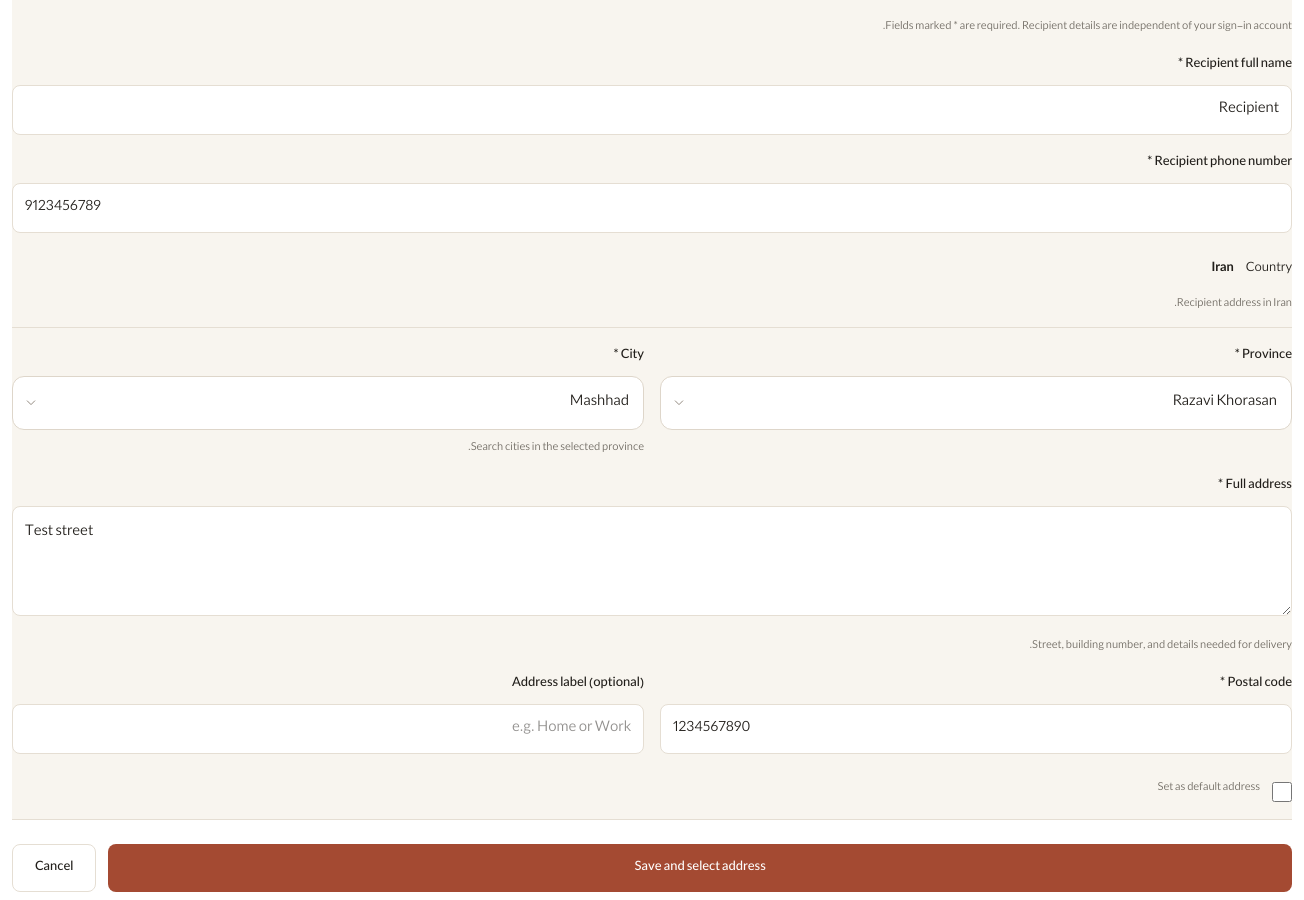
Test: backend regions populate searchable dependent dropdowns
(page scrolled)
Expected: the dropdown labelled "Province" holds "Razavi Khorasan", [697,376,1291,428]
Submit the form named "Province"
Replace the text in the dropdown labelled "Province" with "Teh" at (994, 402), box [697,376,1291,428]
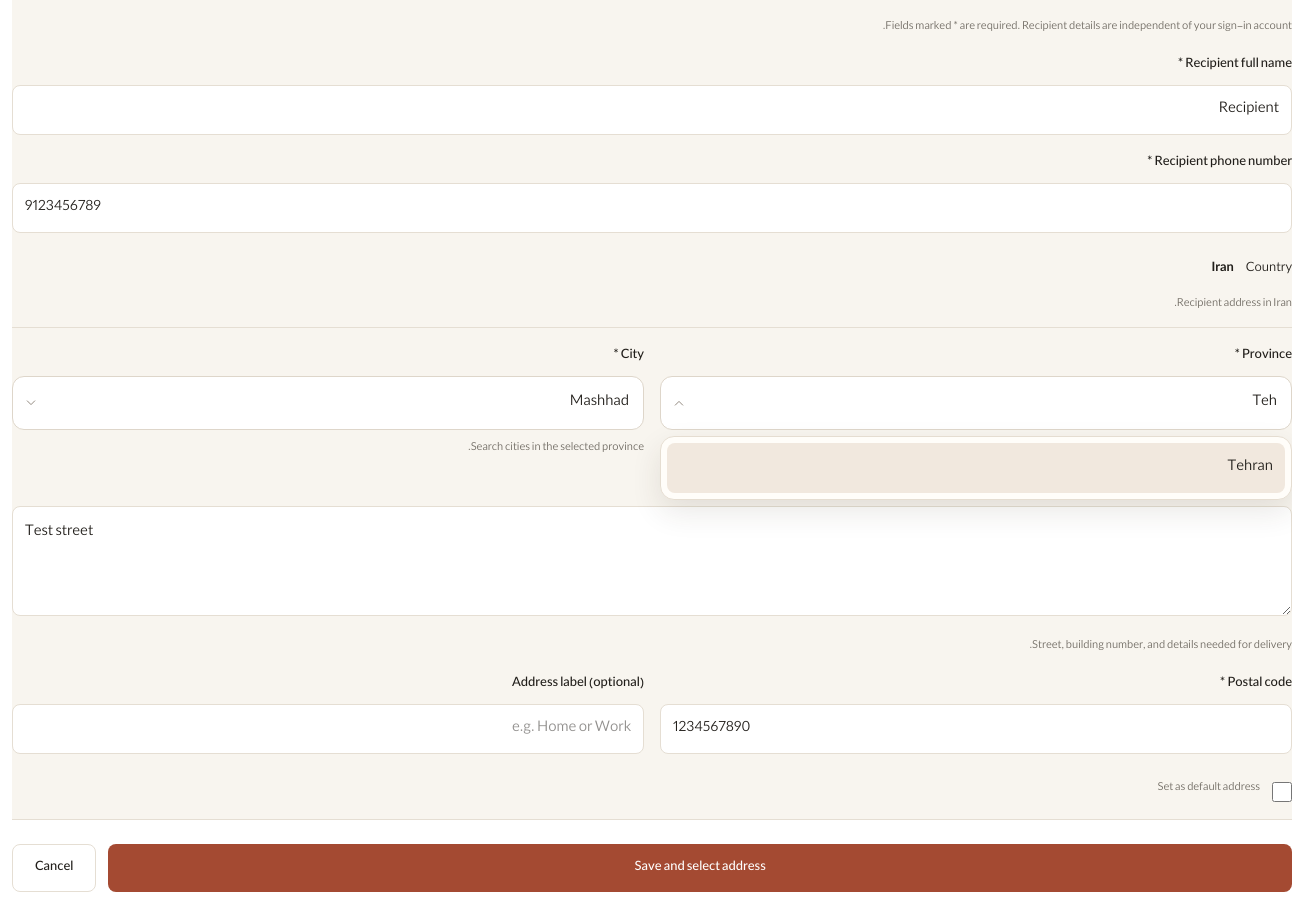
Click the option "Tehran".
click(1250, 468)  # box [667,442,1285,492]
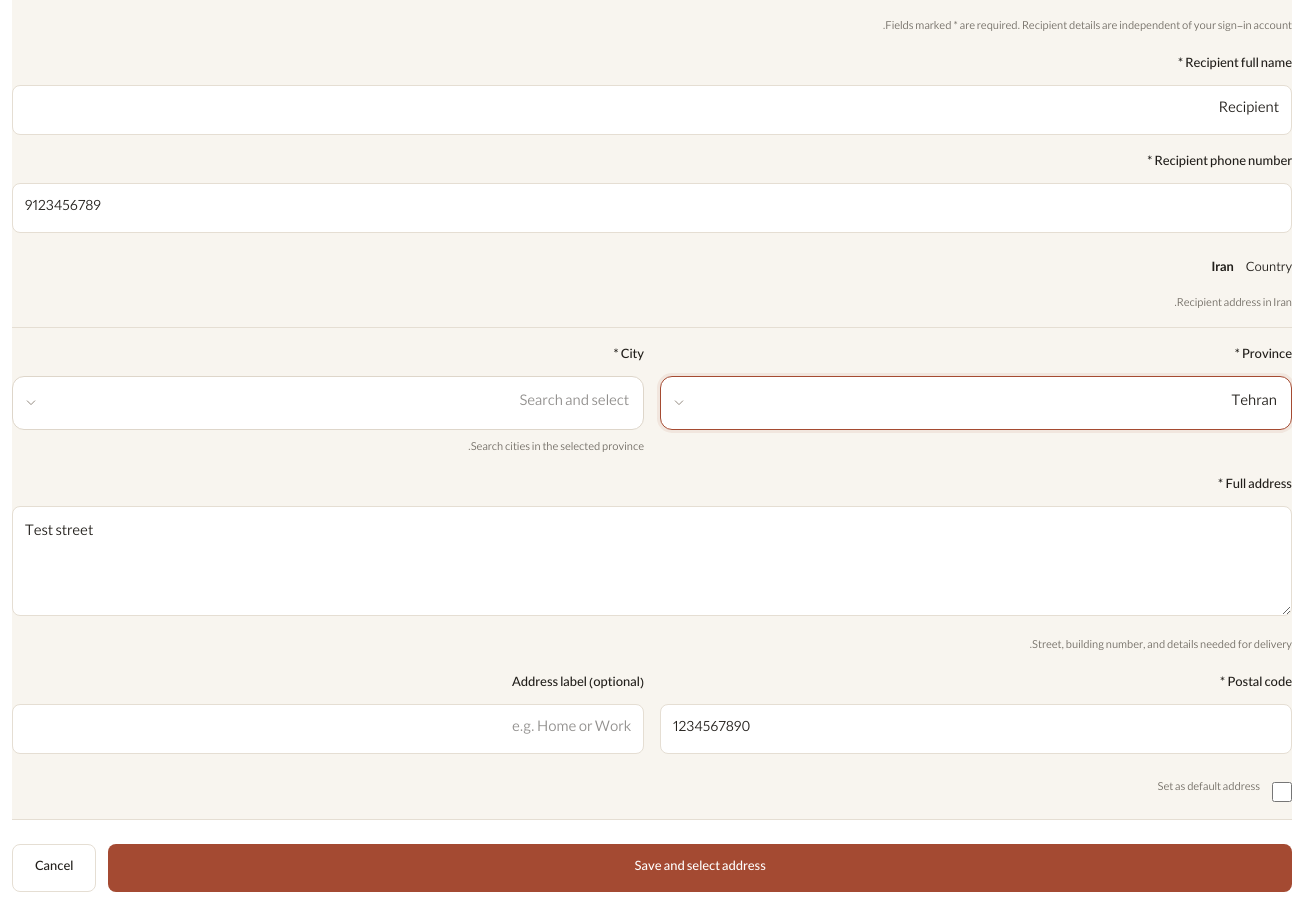
Result: the dropdown labelled "City" is empty
Click the dropdown labelled "City".
click(346, 402)  # box [49,376,643,428]
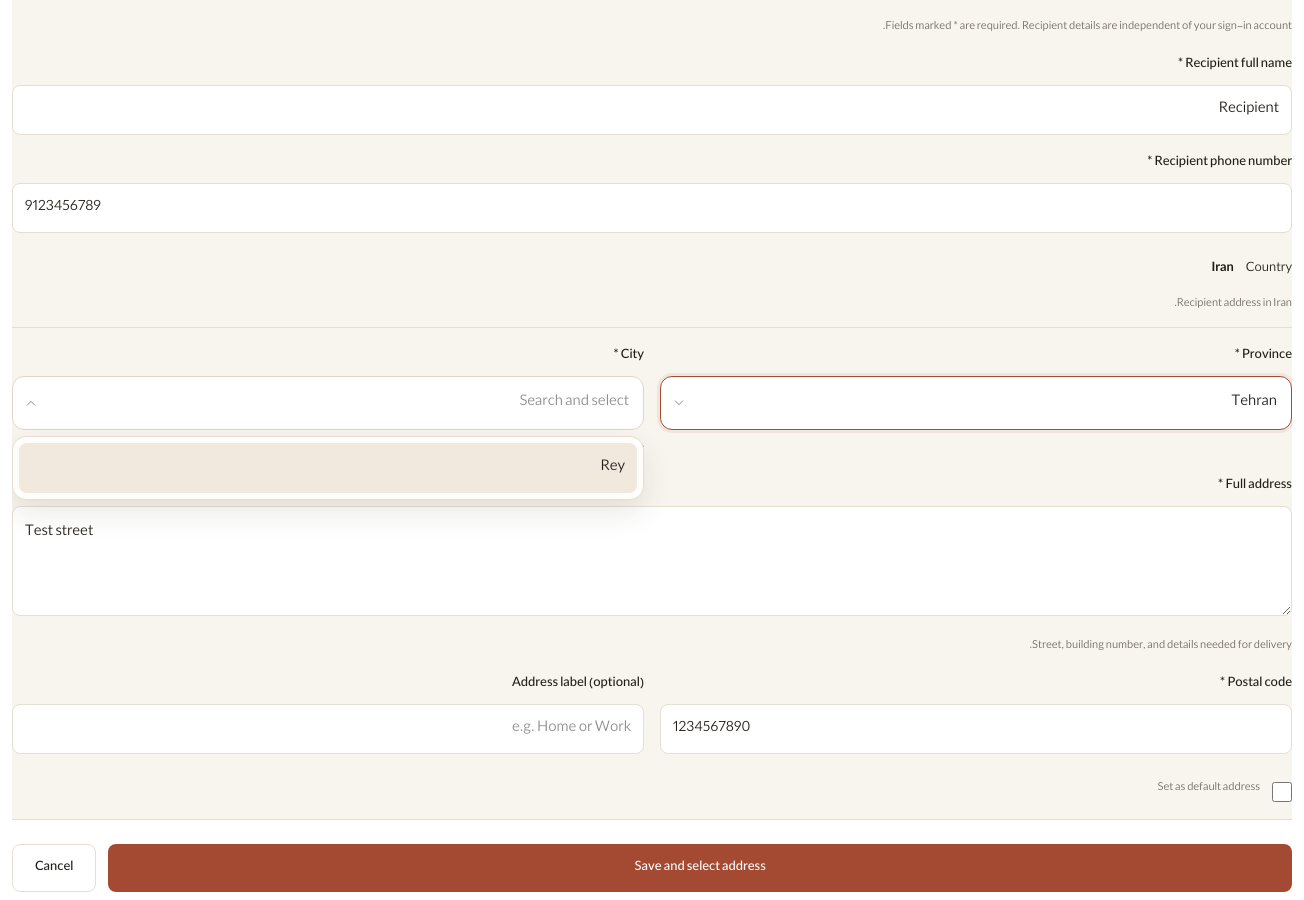
Expected: the option "Mashhad" is not shown
Result: the option "Rey" is shown at [19,442,637,492]
